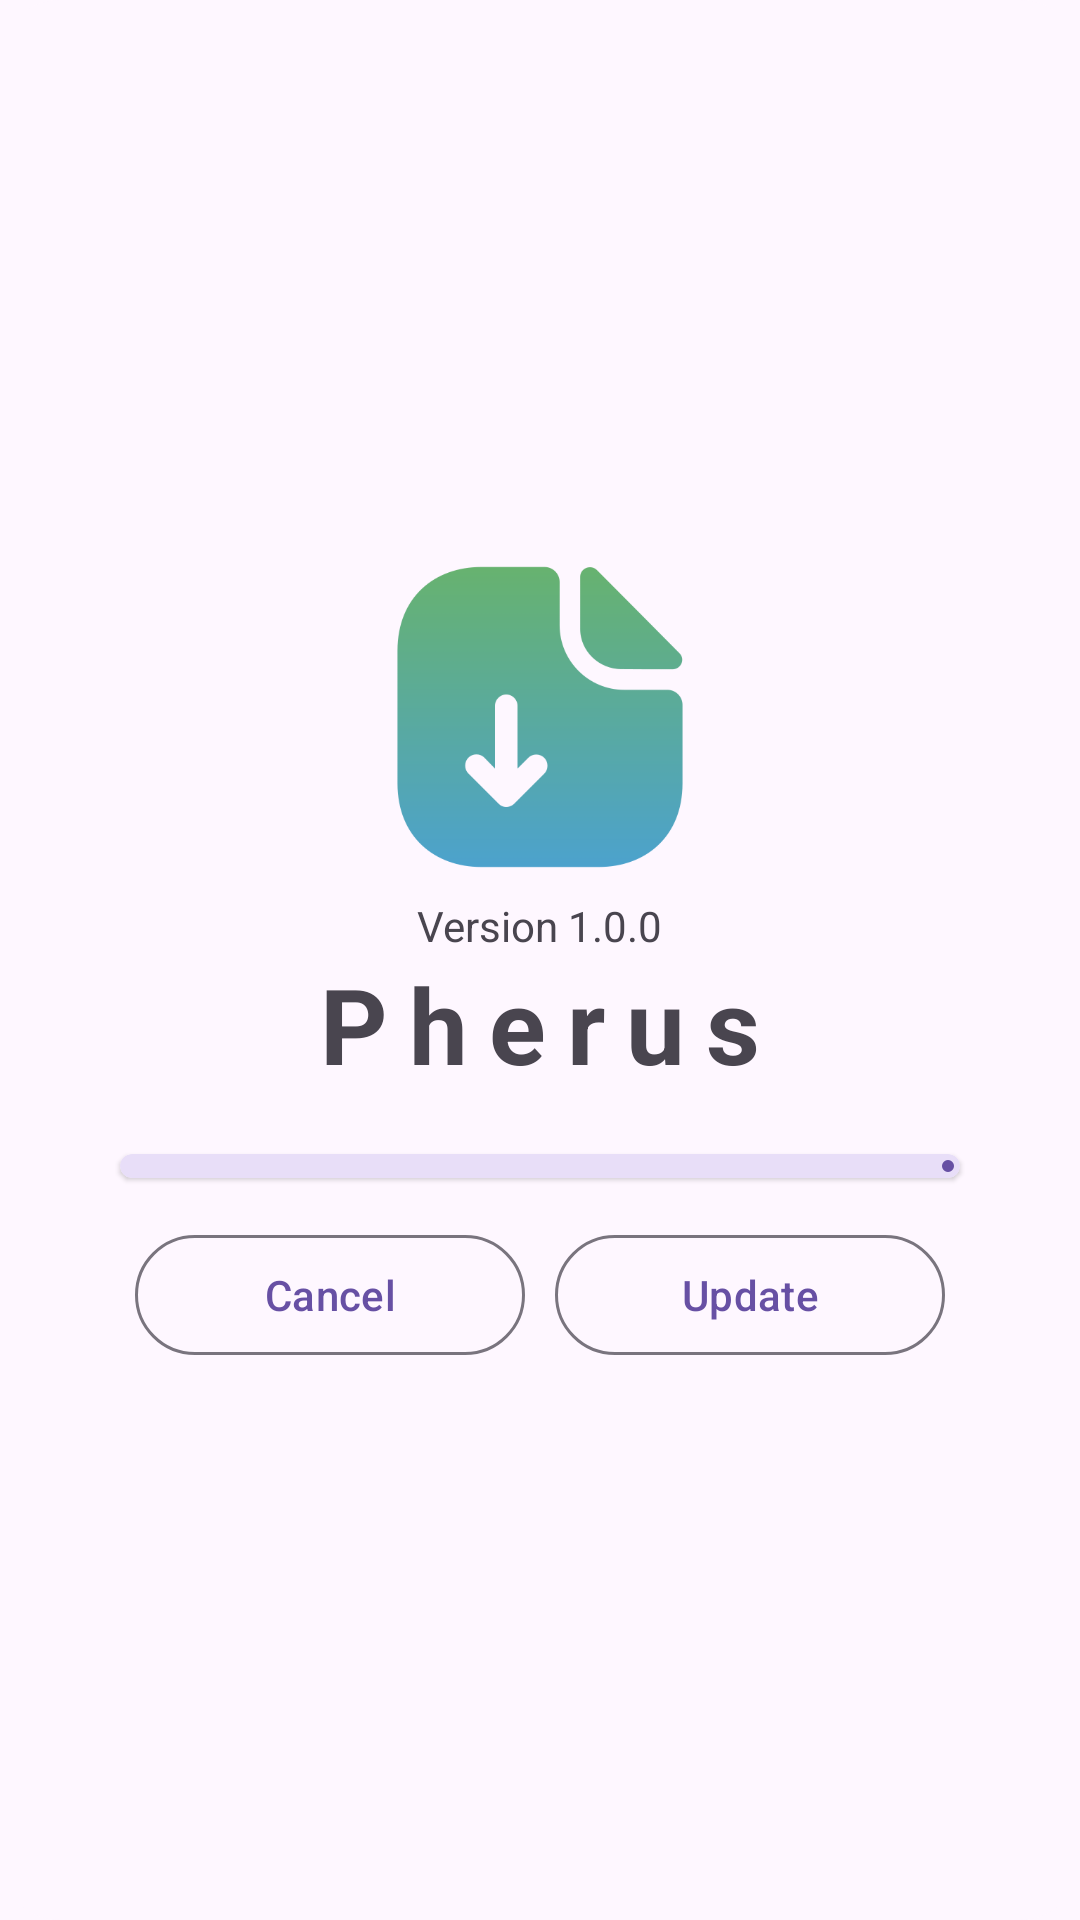

Named icons in this screenshot (1080w x 1920h) and their bounding boxes, (x1,y1,x2,y2):
file download: (397,567,683,868)
